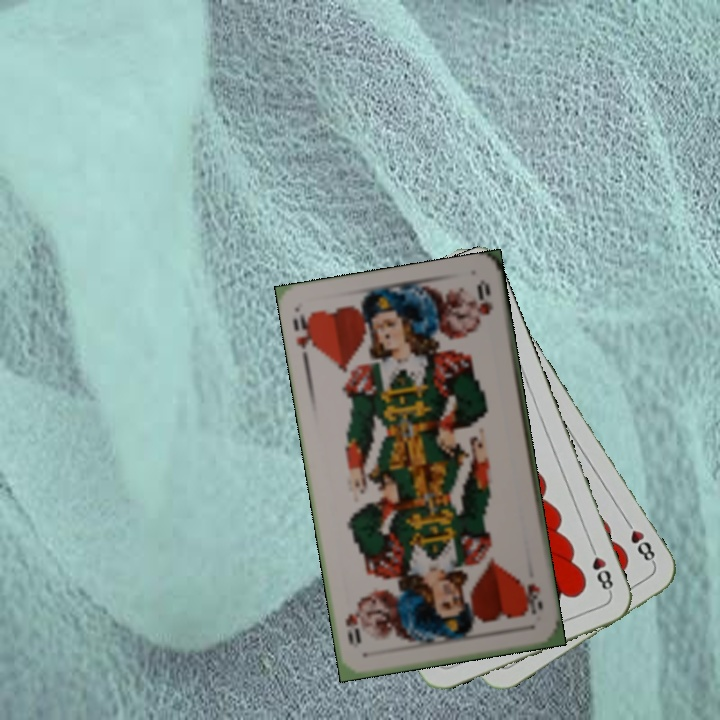H8: (620, 514, 658, 567), (585, 540, 616, 597)
HO: (289, 308, 320, 367), (522, 579, 545, 617)
